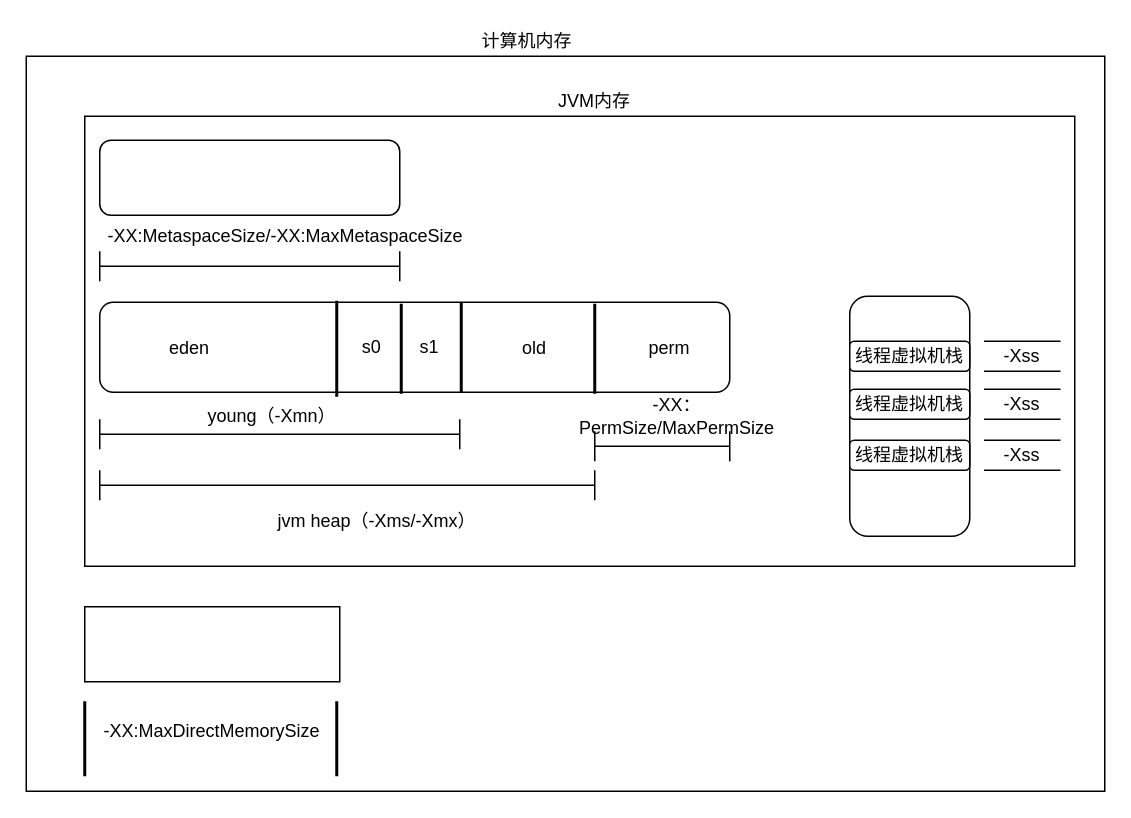
The diagram is 1131 pixels wide and 818 high, and some of its shapes have lost their labels. The shapes that lost their labels are listed below. From the top down, each one's centre as x and y in pixels, then its label:
At (249,177): "Meta".
At (211,643): "DirectMemory".
